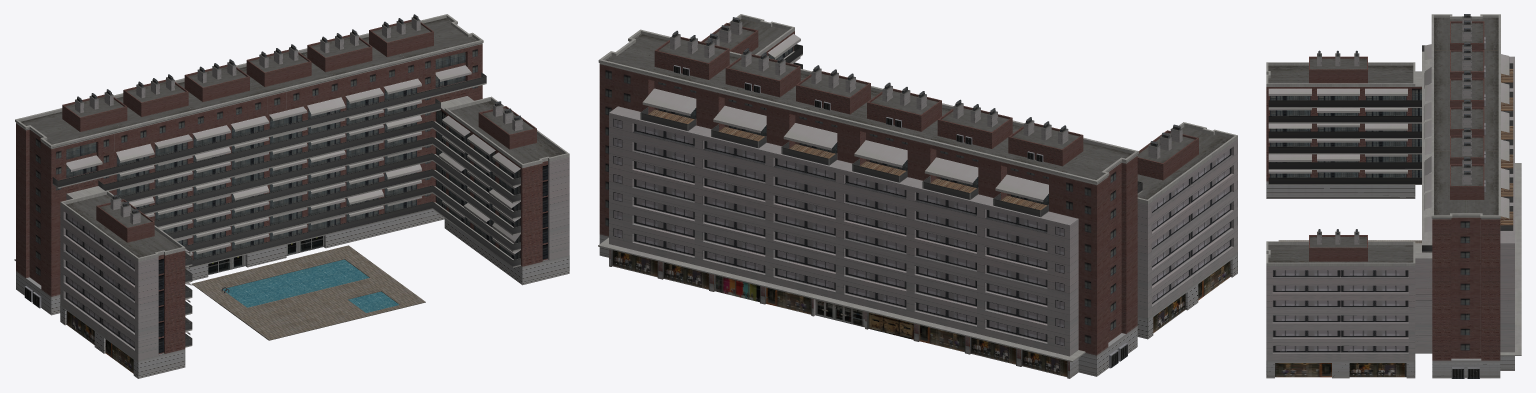
The model's file is building1.glb.
3 views of the same model, side by side, from view 1: azimuth 30°, elevation 25°; view 2: azimuth 150°, elevation 25°; view 3: azimuth 270°, elevation 25° (orthographic). The views are drawn at different scales.
Visible parts, largest first — view 1: bina.008; view 2: bina.008; view 3: bina.008.
Boxes of the visible parts, x1=… form: bina.008: x1=14, y1=14, x2=569, y2=378; bina.008: x1=598, y1=14, x2=1237, y2=378; bina.008: x1=1266, y1=14, x2=1521, y2=378.
Size of the model in its own units: 48.25 by 20.65 by 25.68.
Materials: 1 (1 with a texture image).
